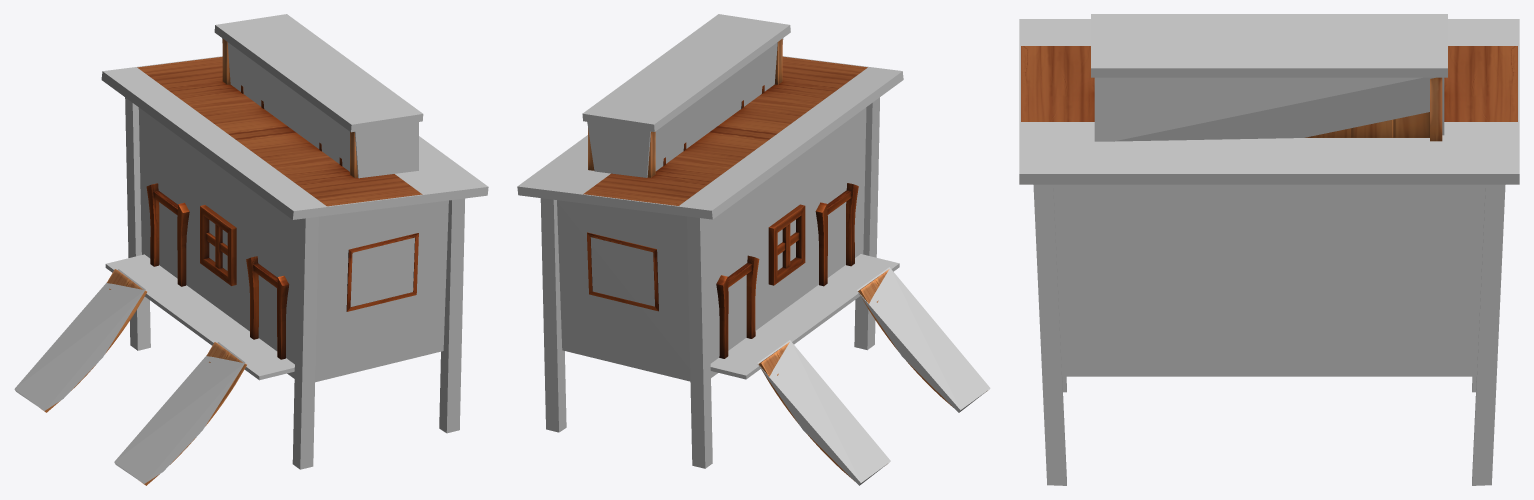
The model's file is SM_ChickenHouse02.fbx.
The picture shows the model from 3 angles, left to right: view 1: azimuth 30°, elevation 25°; view 2: azimuth 150°, elevation 25°; view 3: azimuth 270°, elevation 25°; orthographic projection. The views are drawn at different scales.
Visible parts, largest first — view 1: SM_ChickenHouse02_ConvexHulls, SM_ChickenHouse02; view 2: SM_ChickenHouse02_ConvexHulls, SM_ChickenHouse02; view 3: SM_ChickenHouse02_ConvexHulls, SM_ChickenHouse02.
Boxes of the visible parts, x1,y1,x2,y2 form: SM_ChickenHouse02_ConvexHulls: (14,14,488,483); SM_ChickenHouse02: (41,39,422,485); SM_ChickenHouse02_ConvexHulls: (517,14,990,485); SM_ChickenHouse02: (583,39,953,481); SM_ChickenHouse02_ConvexHulls: (1019,14,1519,485); SM_ChickenHouse02: (1021,46,1517,141).
Bounding box in the file's own units: 232 × 245 × 223.
Materials: 2 (1 with a texture image).
